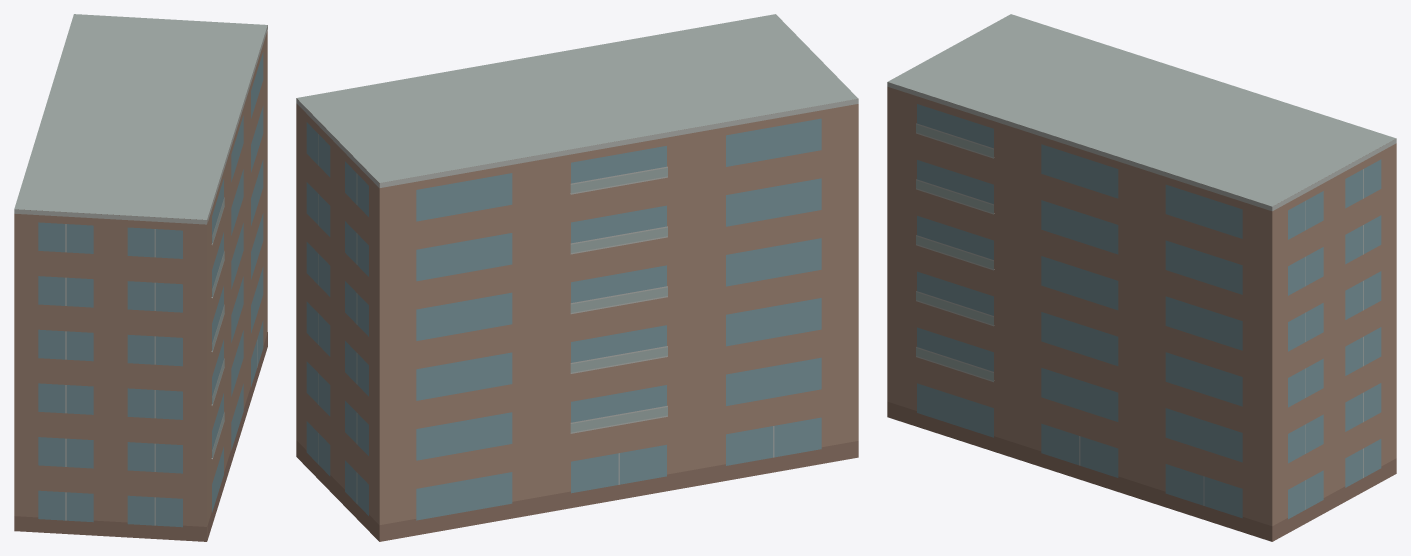
Rendered from survey-upis-32578351.glb.
The picture shows the model from 3 angles, left to right: view 1: azimuth 30°, elevation 25°; view 2: azimuth 150°, elevation 25°; view 3: azimuth 270°, elevation 25°; orthographic projection. The views are drawn at different scales.
Parts seen in each view (by area): view 1: survey-upis-32578351.tmp; view 2: survey-upis-32578351.tmp; view 3: survey-upis-32578351.tmp.
Boxes of the visible parts, x1,y1,x2,y2 form: survey-upis-32578351.tmp: (14, 14, 267, 541); survey-upis-32578351.tmp: (296, 14, 858, 541); survey-upis-32578351.tmp: (887, 14, 1396, 541).
Size of the model in its own units: 21.2 by 17.2 by 23.68.
